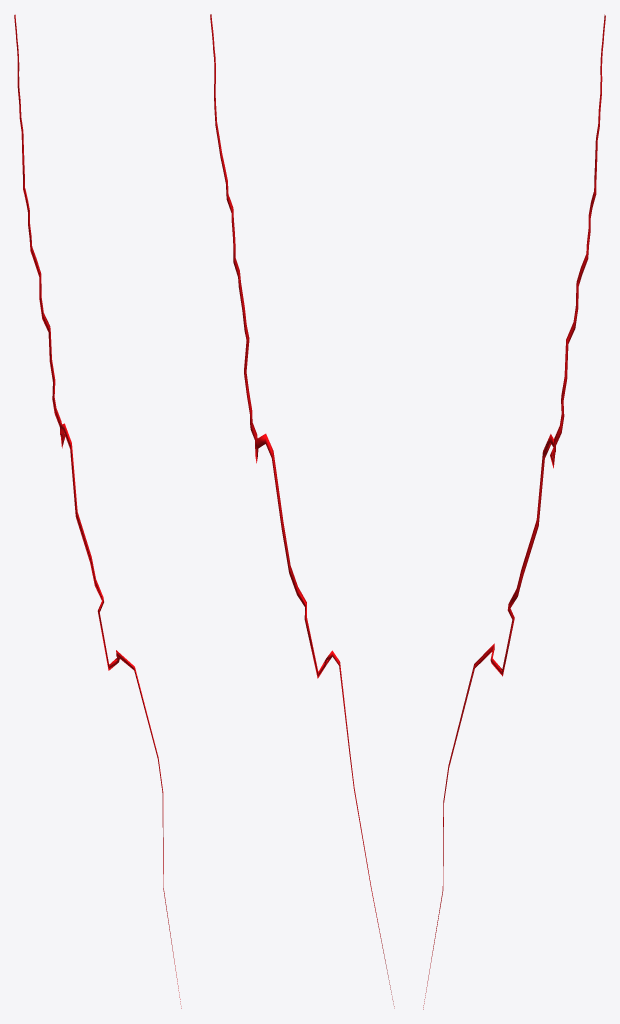
The model's file is Lightning Bolt 3.fbx.
3 views of the same model, side by side, from view 1: azimuth 90°, elevation 25°; view 2: azimuth 150°, elevation 25°; view 3: azimuth 270°, elevation 25° (orthographic). The views are drawn at different scales.
Visible parts, largest first — view 1: Lightning Bolt 3; view 2: Lightning Bolt 3; view 3: Lightning Bolt 3.
Part boxes in pixels (box(x1,y1,x2,y2)): Lightning Bolt 3: box(14, 14, 181, 1008); Lightning Bolt 3: box(210, 14, 394, 1008); Lightning Bolt 3: box(423, 14, 605, 1009).
Size of the model in its own units: 19.18 by 203 by 32.23.
